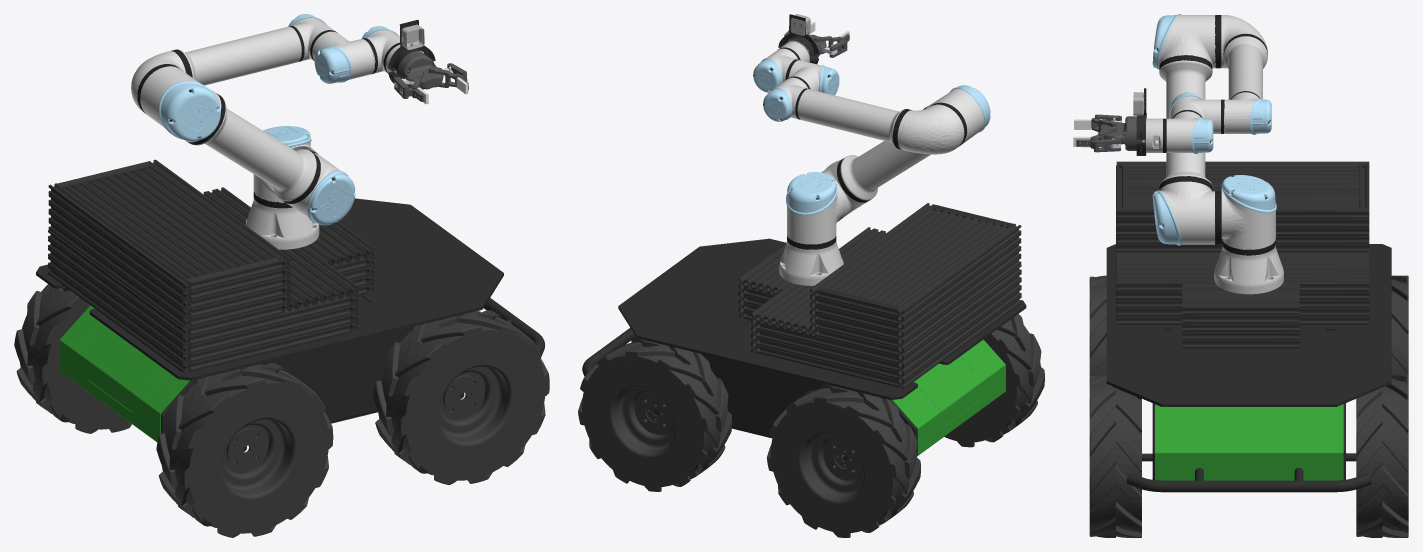
File: mmp_husky.glb
The picture shows the model from 3 angles, left to right: view 1: azimuth 30°, elevation 25°; view 2: azimuth 150°, elevation 25°; view 3: azimuth 270°, elevation 25°; orthographic projection. The views are drawn at different scales.
Parts seen in each view (by area): view 1: MMP Husky_primitive2, MMP Husky_primitive7, MMP Husky_primitive0, MMP Husky_primitive3, MMP Husky_primitive1, MMP Husky_primitive4, MMP Husky_primitive5, mmp_ridgeback.001_primitive2, MMP Husky_primitive6, mmp_ridgeback.001_primitive13; view 2: MMP Husky_primitive2, MMP Husky_primitive7, MMP Husky_primitive0, MMP Husky_primitive3, MMP Husky_primitive5, MMP Husky_primitive1, MMP Husky_primitive4, MMP Husky_primitive6, mmp_ridgeback.001_primitive2, mmp_ridgeback.001_primitive13; view 3: MMP Husky_primitive7, MMP Husky_primitive0, MMP Husky_primitive2, MMP Husky_primitive1, MMP Husky_primitive5, MMP Husky_primitive3, MMP Husky_primitive4, MMP Husky_primitive6, mmp_ridgeback.001_primitive2, mmp_ridgeback.001_primitive13.
Part boxes in pixels (<box>): MMP Husky_primitive2: <box>14,284,549,537</box>; MMP Husky_primitive7: <box>48,159,374,372</box>; MMP Husky_primitive0: <box>36,198,544,451</box>; MMP Husky_primitive3: <box>176,26,400,249</box>; MMP Husky_primitive1: <box>59,305,481,441</box>; MMP Husky_primitive4: <box>158,14,399,225</box>; MMP Husky_primitive5: <box>131,18,399,217</box>; mmp_ridgeback.001_primitive2: <box>394,51,467,101</box>; MMP Husky_primitive6: <box>137,26,399,209</box>; mmp_ridgeback.001_primitive13: <box>388,19,435,83</box>; MMP Husky_primitive2: <box>578,314,1044,537</box>; MMP Husky_primitive7: <box>738,203,1021,389</box>; MMP Husky_primitive0: <box>582,238,1026,461</box>; MMP Husky_primitive3: <box>779,41,930,285</box>; MMP Husky_primitive5: <box>767,48,984,244</box>; MMP Husky_primitive1: <box>892,339,1005,456</box>; MMP Husky_primitive4: <box>753,58,990,215</box>; MMP Husky_primitive6: <box>753,47,966,249</box>; mmp_ridgeback.001_primitive2: <box>784,30,849,62</box>; mmp_ridgeback.001_primitive13: <box>778,14,818,64</box>; MMP Husky_primitive7: <box>1116,161,1369,348</box>; MMP Husky_primitive0: <box>1106,244,1391,492</box>; MMP Husky_primitive2: <box>1089,275,1408,537</box>; MMP Husky_primitive1: <box>1155,404,1343,480</box>; MMP Husky_primitive5: <box>1158,15,1275,249</box>; MMP Husky_primitive3: <box>1142,36,1283,294</box>; MMP Husky_primitive4: <box>1152,14,1276,245</box>; MMP Husky_primitive6: <box>1154,15,1275,255</box>; mmp_ridgeback.001_primitive2: <box>1090,114,1141,152</box>; mmp_ridgeback.001_primitive13: <box>1136,88,1146,155</box>.
Bounding box in the file's own units: 93.05 × 101 × 73.
